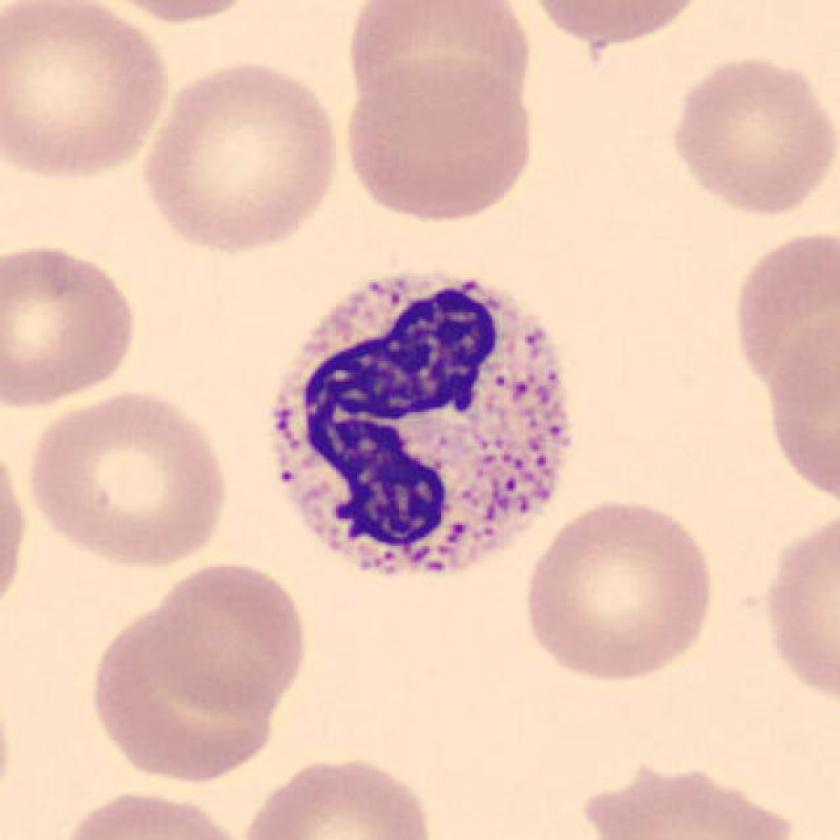neutrophil: (270, 276, 567, 575)
